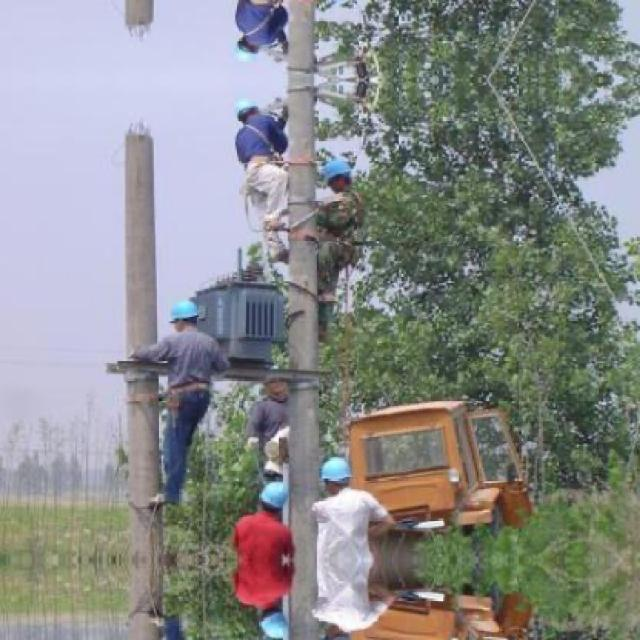con casco: (305, 439, 389, 506), (166, 286, 233, 352), (327, 136, 374, 190), (222, 87, 274, 128), (256, 468, 294, 524)
